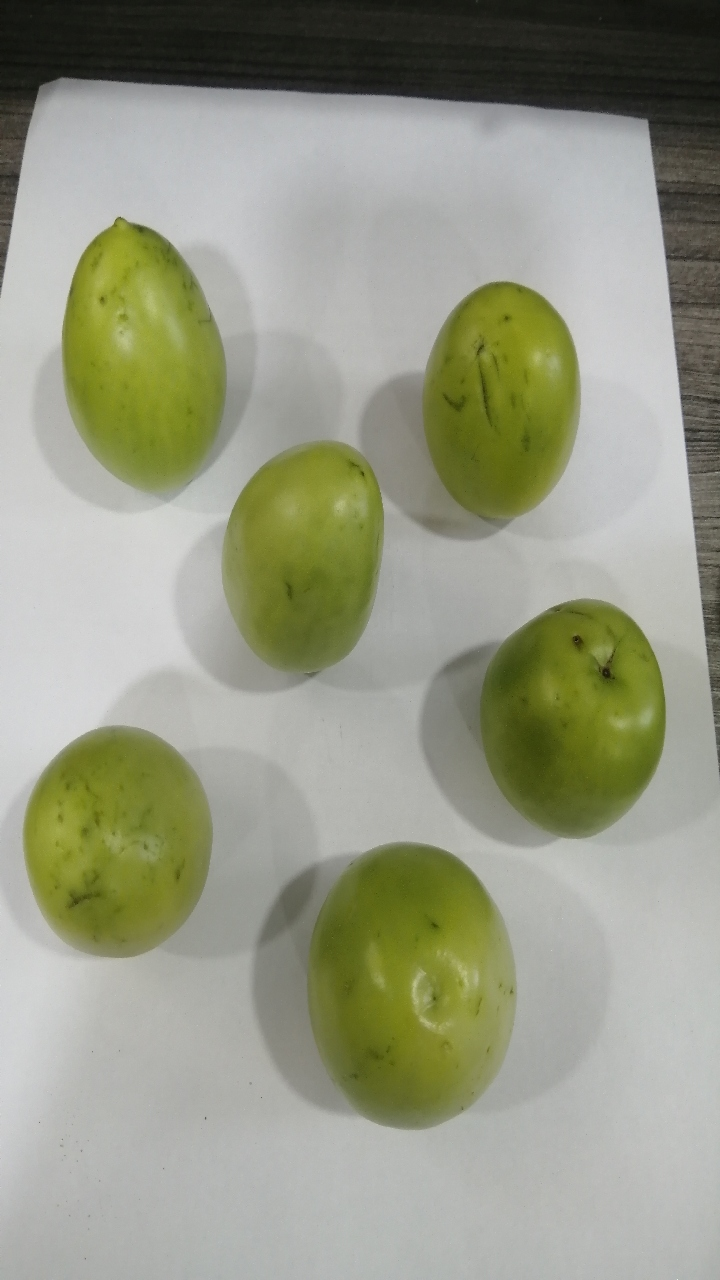tomateVerde: (281, 820, 528, 1162), (460, 572, 678, 865), (40, 199, 234, 522), (11, 708, 228, 983), (397, 259, 601, 546), (208, 415, 404, 700)
